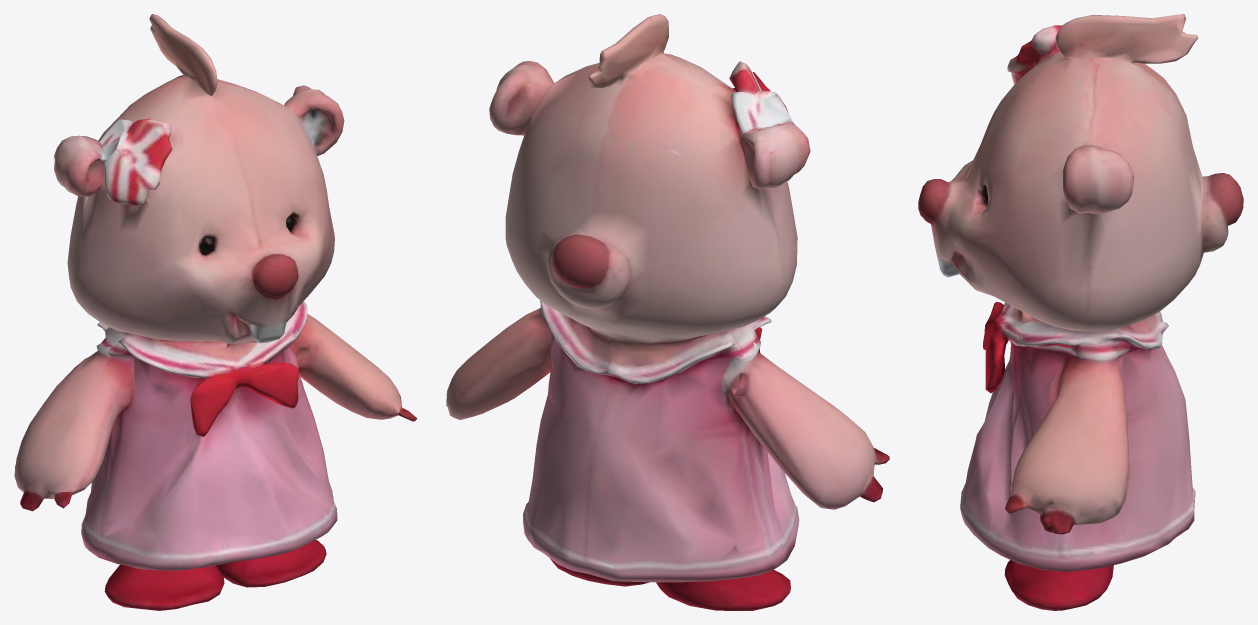
File: loopy.glb
3 renders of one model, left to right at view 1: azimuth 30°, elevation 25°; view 2: azimuth 150°, elevation 25°; view 3: azimuth 270°, elevation 25°, orthographic. The views are drawn at different scales.
Visible parts, largest first — view 1: Body; view 2: Body; view 3: Body.
Boxes of the visible parts, <box> form: Body: <box>14,14,417,610</box>; Body: <box>446,14,889,610</box>; Body: <box>918,14,1243,610</box>.
Size of the model in its own units: 0.2315 by 0.3003 by 0.1626.
Materials: 1 (1 with a texture image).
